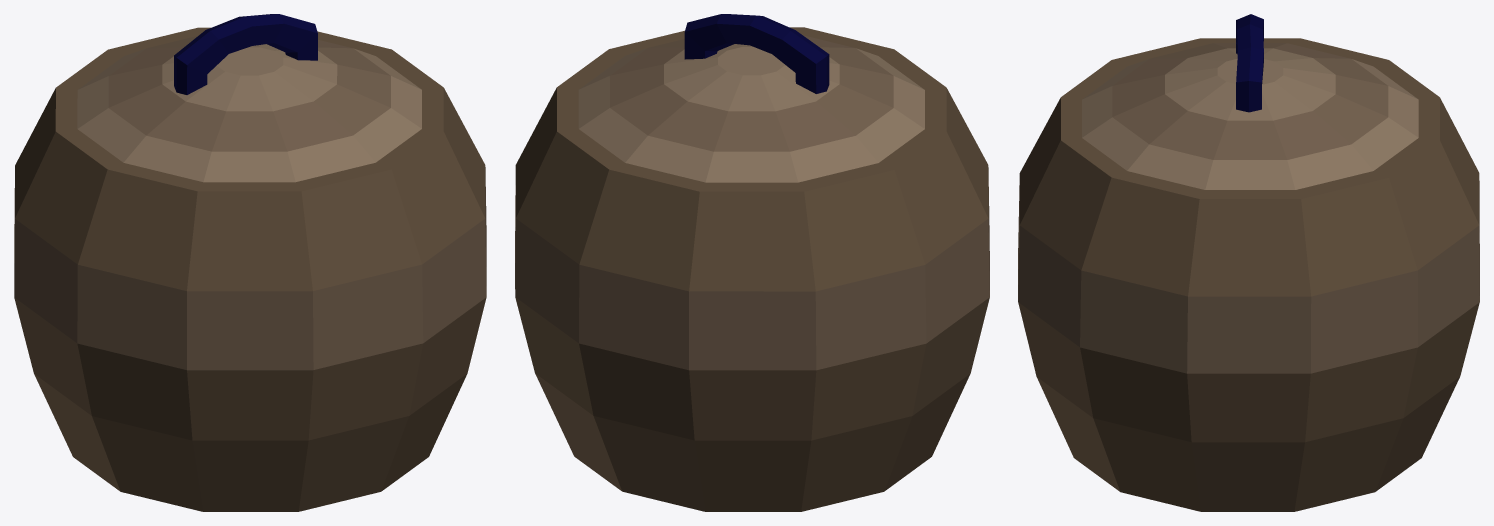
File: EA03_Prop_Container_Basket_01a.glb
3 views of the same model, side by side, from view 1: azimuth 30°, elevation 25°; view 2: azimuth 150°, elevation 25°; view 3: azimuth 270°, elevation 25° (orthographic). The views are drawn at different scales.
Visible parts, largest first — view 1: EA03_Prop_Container_Basket_01a; view 2: EA03_Prop_Container_Basket_01a; view 3: EA03_Prop_Container_Basket_01a.
Boxes of the visible parts, x1,y1,x2,y2 form: EA03_Prop_Container_Basket_01a: (14,14,486,511); EA03_Prop_Container_Basket_01a: (515,14,989,511); EA03_Prop_Container_Basket_01a: (1018,14,1479,511).
Size of the model in its own units: 0.4662 by 0.4578 by 0.465.
1 material, 1 textured.
